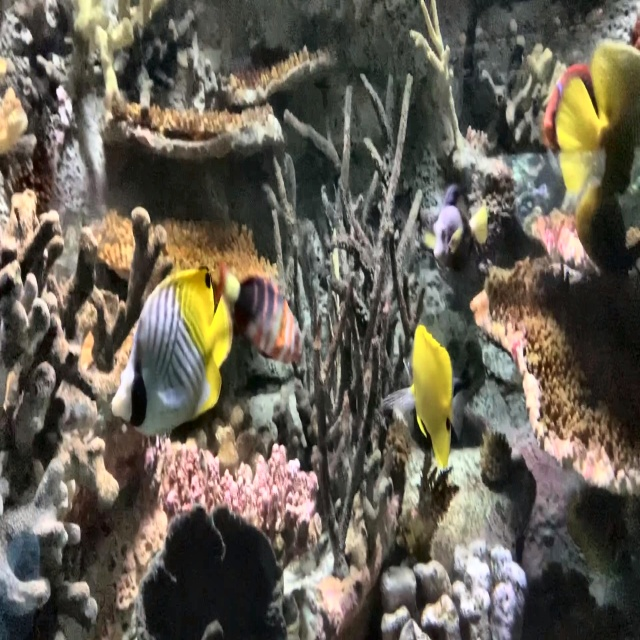fish: (111, 268, 233, 435), (559, 41, 639, 194), (230, 274, 304, 364), (413, 324, 454, 473), (428, 184, 489, 269), (543, 63, 599, 152)
